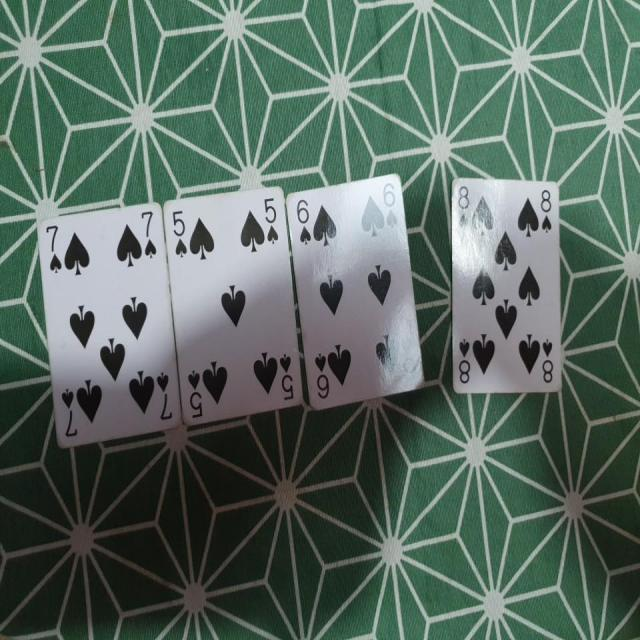5 Spades: (163, 186, 305, 426)
6 Spades: (285, 171, 431, 415)
7 Spades: (30, 198, 186, 455)
8 Spades: (441, 172, 567, 400)
